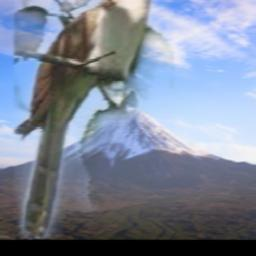Cuckoo: (14, 0, 174, 239)
